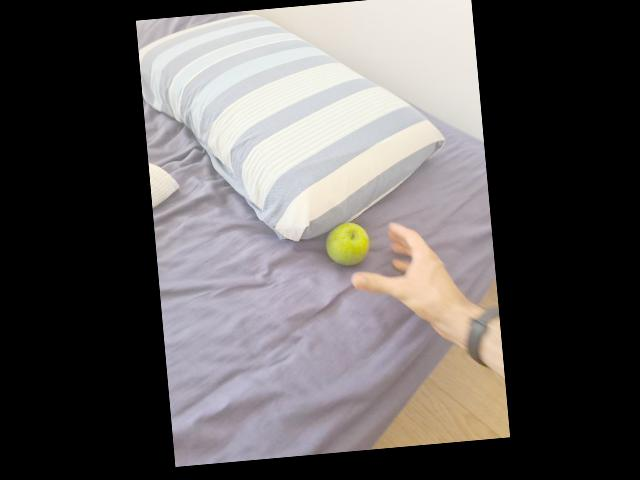apple: (329, 220, 366, 269)
